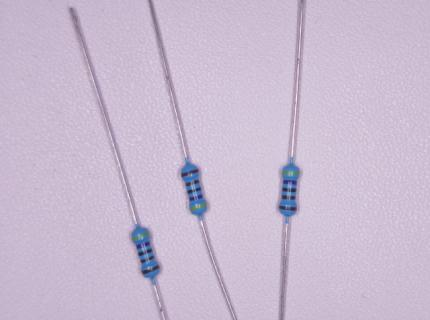Black band: (137, 248, 153, 257), (187, 187, 202, 194), (282, 187, 297, 193)
Brown band: (141, 265, 160, 275), (180, 169, 200, 178), (185, 179, 200, 188), (140, 255, 155, 264), (279, 205, 297, 212), (281, 194, 296, 200)
Violet band: (189, 194, 204, 202), (136, 241, 151, 249), (283, 179, 297, 185)
Yellow band: (189, 203, 208, 211), (132, 232, 150, 240), (281, 170, 301, 176)
